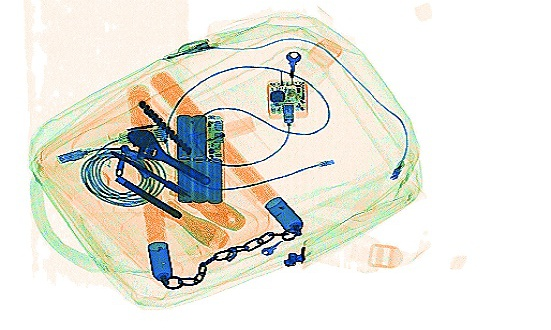powerbank: (172, 112, 225, 204)
